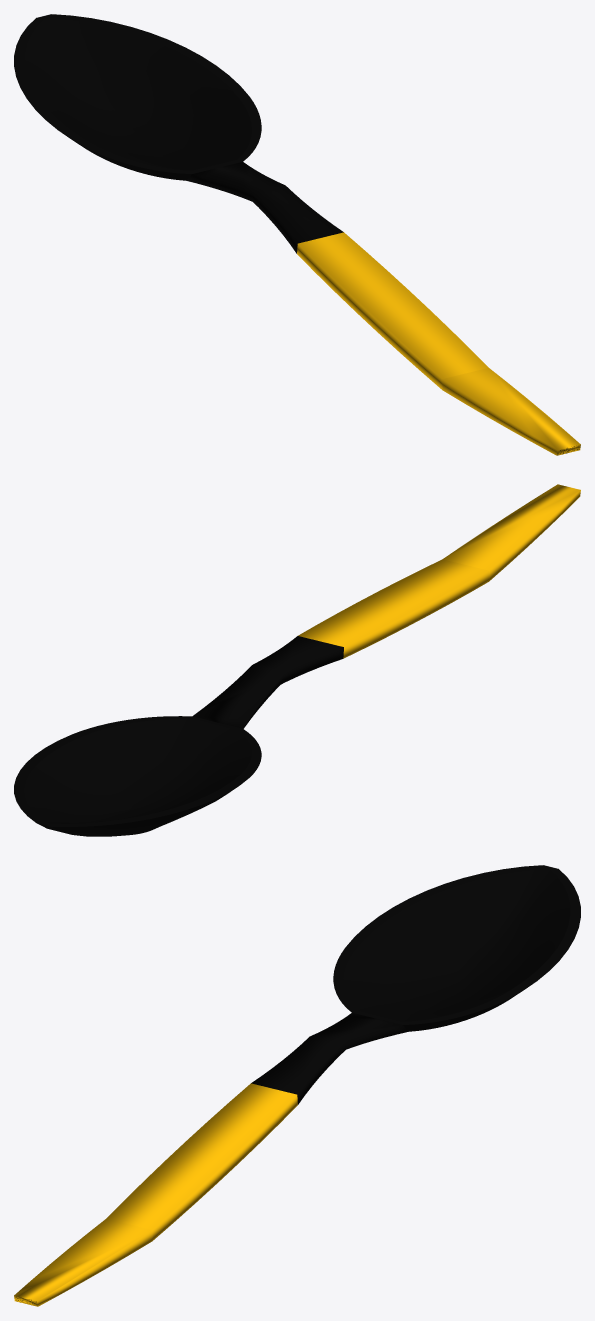
The model's file is spoon_08_origin_gt_1.dae.
3 views of the same model, one above another, from view 1: azimuth 30°, elevation 25°; view 2: azimuth 150°, elevation 25°; view 3: azimuth 330°, elevation 25° (orthographic).
Parts seen in each view (by area): view 1: group_0 (×3); view 2: group_0 (×3); view 3: group_0 (×3).
Part boxes in pixels (left/top/right/bottom): group_0 (×3): left=14, top=14, right=580, bottom=455; group_0 (×3): left=14, top=484, right=580, bottom=836; group_0 (×3): left=14, top=865, right=580, bottom=1306.
Bounding box in the file's own units: 1.76 × 8.73 × 0.6219.
